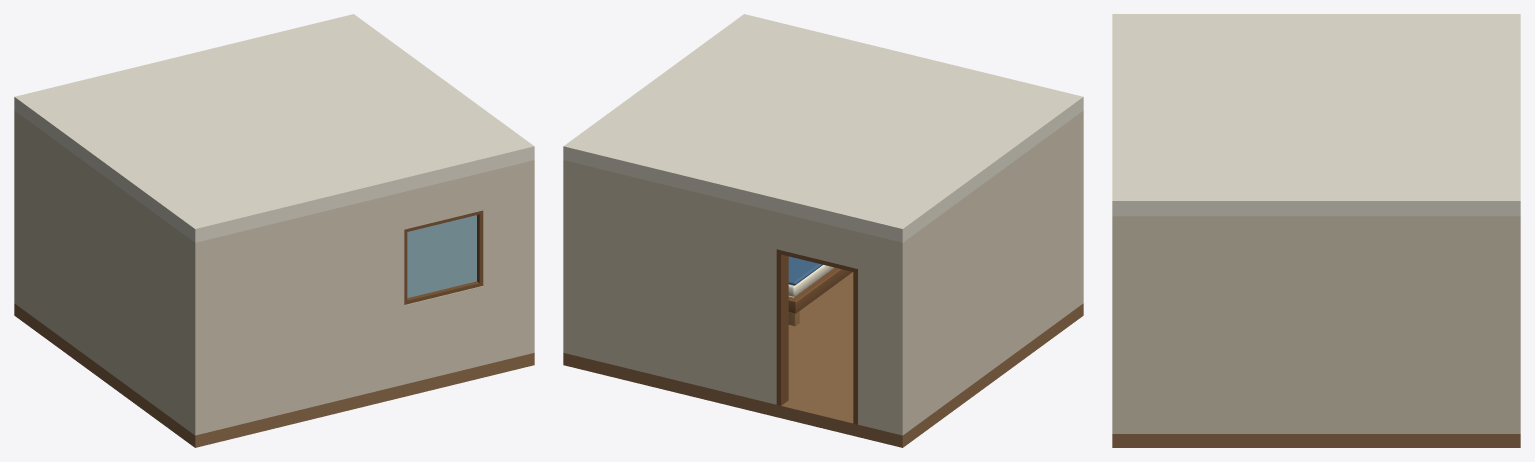
Rendered from room_furnished_without_door.fbx.
3 views of the same model, side by side, from view 1: azimuth 30°, elevation 25°; view 2: azimuth 150°, elevation 25°; view 3: azimuth 270°, elevation 25° (orthographic). The views are drawn at different scales.
Visible parts, largest first — view 1: Architecture_Shell, Window_Pane; view 2: Architecture_Shell, Door_Jamb_R, Bed_Base, Door_Jamb_L, Bed_Quilt; view 3: Architecture_Shell.
Part boxes in pixels (<box>): Architecture_Shell: <box>14,14,534,447</box>; Window_Pane: <box>407,215,476,297</box>; Architecture_Shell: <box>563,14,1083,447</box>; Door_Jamb_R: <box>776,253,788,405</box>; Bed_Base: <box>788,267,852,313</box>; Door_Jamb_L: <box>853,272,857,424</box>; Bed_Quilt: <box>788,256,822,285</box>; Architecture_Shell: <box>1112,14,1520,447</box>.
Bounding box in the file's own units: 5.16 × 3.18 × 4.76.
